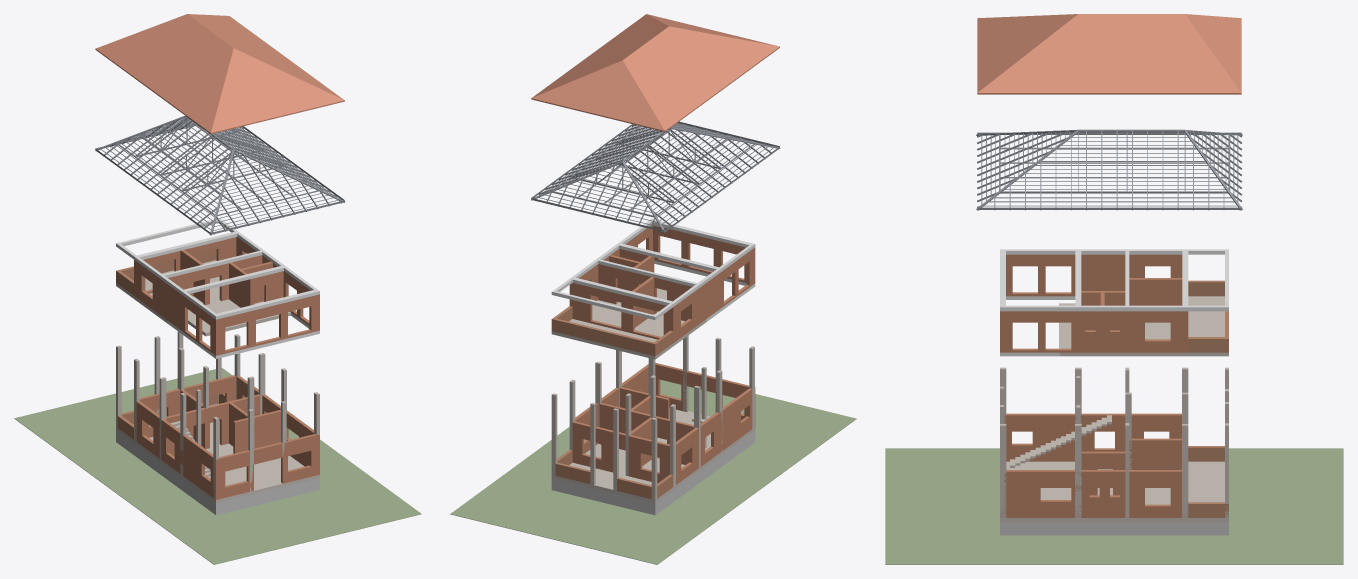
Rendered from konkan_house_exploded.glb.
3 views of the same model, side by side, from view 1: azimuth 30°, elevation 25°; view 2: azimuth 150°, elevation 25°; view 3: azimuth 270°, elevation 25° (orthographic). The views are drawn at different scales.
Parts seen in each view (by area): view 1: Ground, Hip_Roof, Living_Kitchen_South, Plinth, Floor_Slab_0, Living_Kitchen_2_South, Living_Kitchen_West, Living_Kitchen_2_West, Workshop_South, Bedroom_1_West, Living_Kitchen_East, Bathroom_1_South (+22 smaller); view 2: Ground, Hip_Roof, Plinth, Living_Kitchen_West, Floor_Slab_0, Floor_Slab_1, Living_Kitchen_2_South, Living_Kitchen_South, Workshop_North, Upper_Verandah_North, Bedroom_1_North, Bedroom_3_North (+20 smaller); view 3: Ground, Hip_Roof, Living_Kitchen_East, Living_Kitchen_West, Floor_Slab_0, Plinth, Floor_Slab_1, Workshop_East, Living_Kitchen_2_East, Bedroom_3_East, Bathroom_2_East, Living_Kitchen_2_West (+18 smaller).
Part boxes in pixels (left/top/right/bottom): Ground: left=14, top=368, right=421, bottom=564; Hip_Roof: left=95, top=14, right=344, bottom=133; Living_Kitchen_South: left=216, top=434, right=319, bottom=499; Plinth: left=116, top=430, right=319, bottom=515; Floor_Slab_0: left=116, top=403, right=319, bottom=502; Living_Kitchen_2_South: left=219, top=295, right=316, bottom=354; Living_Kitchen_West: left=161, top=419, right=214, bottom=498; Living_Kitchen_2_West: left=182, top=295, right=218, bottom=355; Workshop_South: left=206, top=394, right=260, bottom=448; Bedroom_1_West: left=136, top=401, right=159, bottom=458; Living_Kitchen_East: left=262, top=394, right=314, bottom=466; Bathroom_1_South: left=254, top=409, right=280, bottom=448; Ground: left=450, top=379, right=856, bottom=564; Hip_Roof: left=531, top=14, right=779, bottom=131; Plinth: left=551, top=430, right=755, bottom=515; Living_Kitchen_West: left=700, top=388, right=752, bottom=466; Floor_Slab_0: left=551, top=408, right=755, bottom=503; Floor_Slab_1: left=551, top=300, right=706, bottom=359; Living_Kitchen_2_South: left=653, top=225, right=755, bottom=284; Living_Kitchen_South: left=655, top=362, right=755, bottom=426; Workshop_North: left=572, top=421, right=625, bottom=472; Upper_Verandah_North: left=551, top=318, right=657, bottom=356; Bedroom_1_North: left=628, top=435, right=669, bottom=483; Bedroom_3_North: left=569, top=283, right=628, bottom=331; Ground: left=885, top=448, right=1343, bottom=564; Hip_Roof: left=977, top=14, right=1241, bottom=94; Living_Kitchen_East: left=1004, top=470, right=1125, bottom=517; Living_Kitchen_West: left=1004, top=413, right=1125, bottom=461; Floor_Slab_0: left=1000, top=461, right=1228, bottom=521; Plinth: left=1000, top=521, right=1228, bottom=535; Floor_Slab_1: left=1110, top=296, right=1228, bottom=356; Workshop_East: left=1129, top=470, right=1183, bottom=517; Living_Kitchen_2_East: left=1000, top=311, right=1076, bottom=352; Bedroom_3_East: left=1129, top=311, right=1184, bottom=352; Bathroom_2_East: left=1080, top=311, right=1125, bottom=352; Living_Kitchen_2_West: left=1006, top=254, right=1075, bottom=296.
Size of the model in its own units: 54 by 107 by 90.
